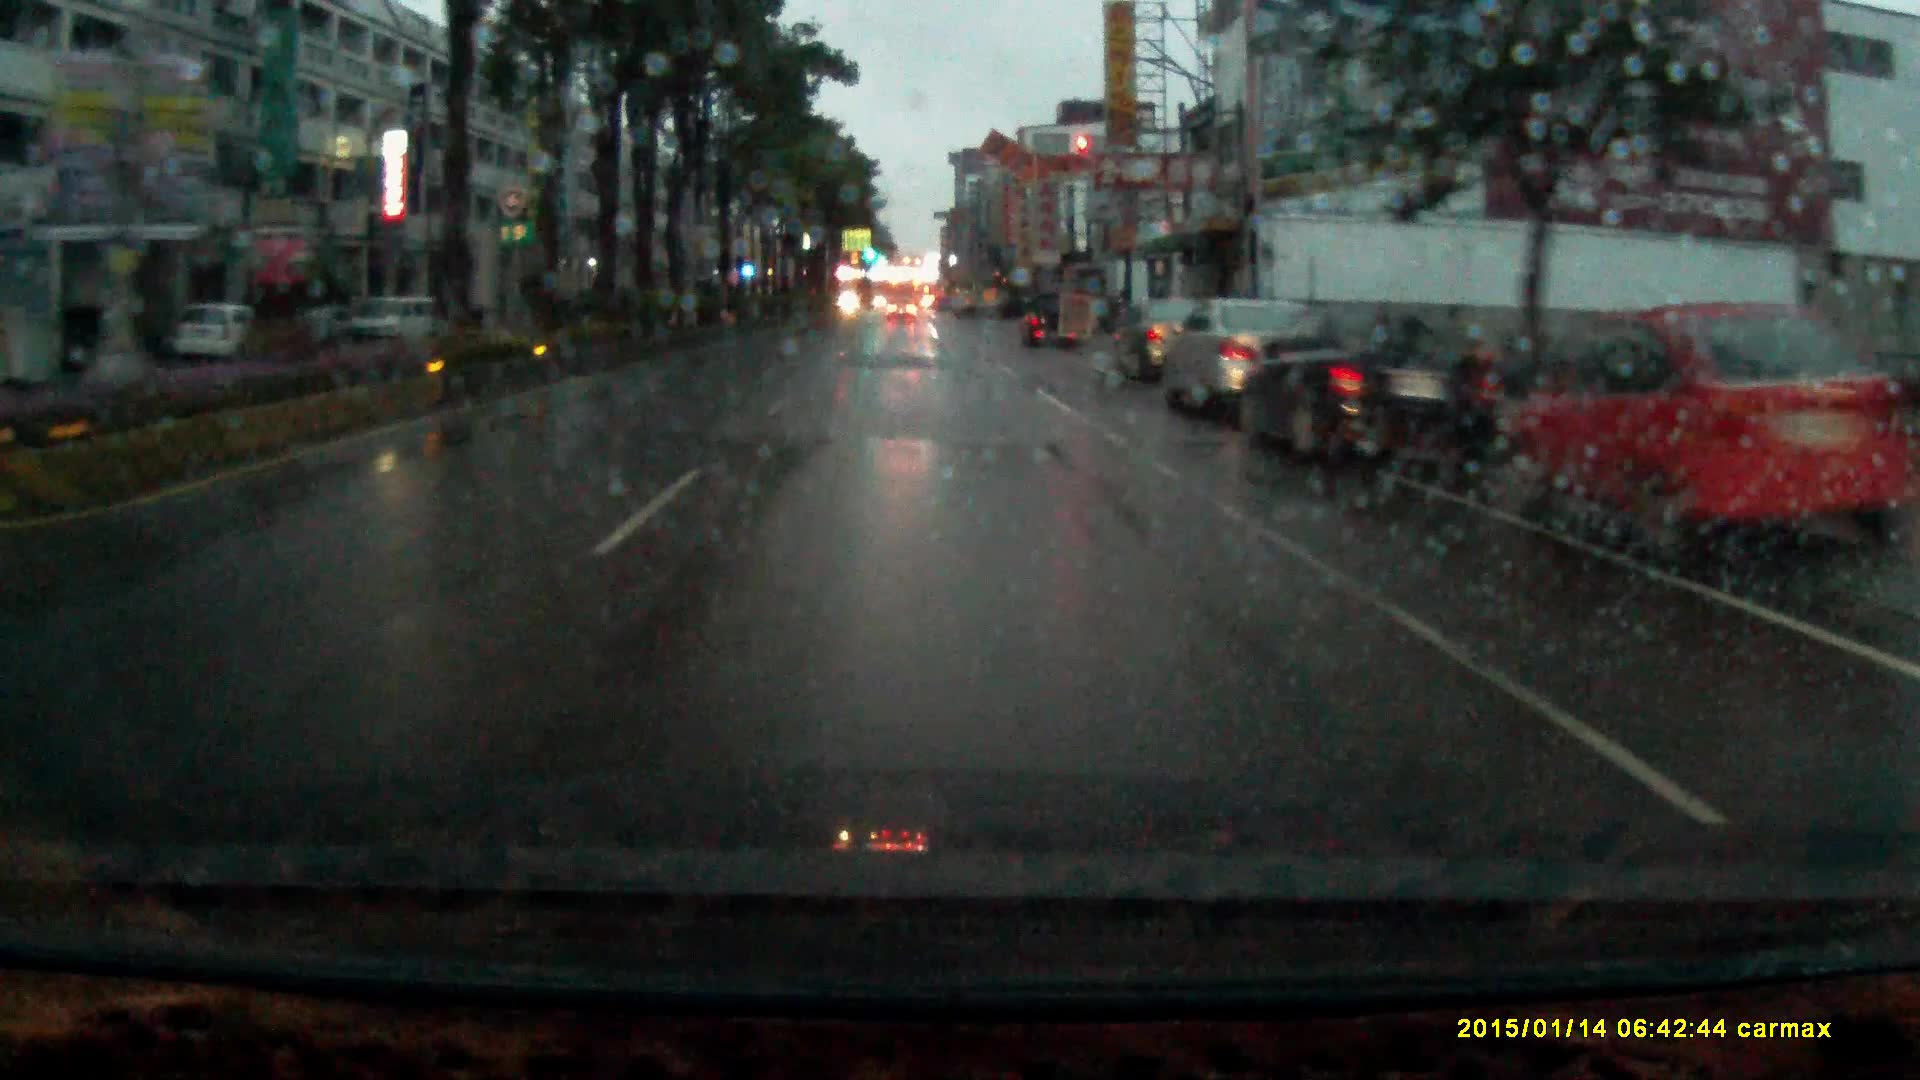vehicle: (1238, 301, 1487, 469), (1159, 295, 1333, 409), (1110, 298, 1199, 380), (334, 293, 448, 347), (182, 302, 269, 357), (1015, 286, 1083, 353), (886, 294, 916, 324)
